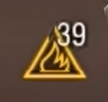1fire: (20, 47, 87, 80)
